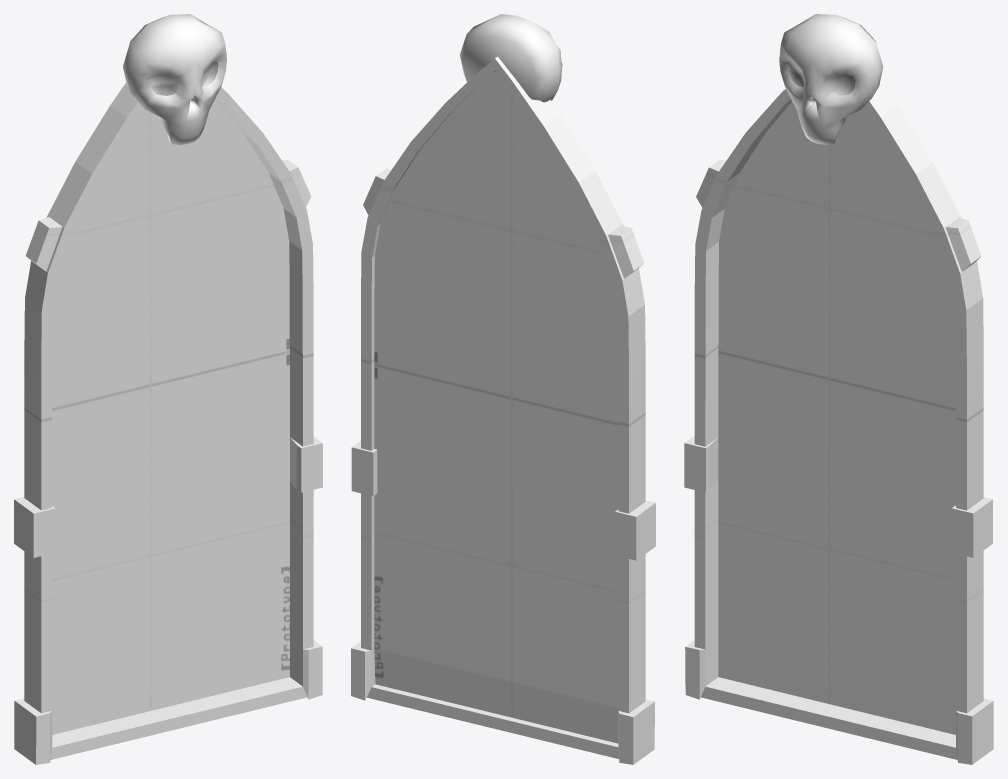
File: DOOR.fbx
3 views of the same model, side by side, from view 1: azimuth 30°, elevation 25°; view 2: azimuth 150°, elevation 25°; view 3: azimuth 330°, elevation 25° (orthographic).
Visible parts, largest first — view 1: MeshBaker_mesh_mesh; view 2: MeshBaker_mesh_mesh; view 3: MeshBaker_mesh_mesh.
Part boxes in pixels (x1,y1,x2,y2): MeshBaker_mesh_mesh: (14, 14, 322, 764); MeshBaker_mesh_mesh: (351, 14, 655, 764); MeshBaker_mesh_mesh: (684, 14, 993, 764).
Bounding box in the file's own units: 461 × 1083 × 107.
Materials: 1 (1 with a texture image).
